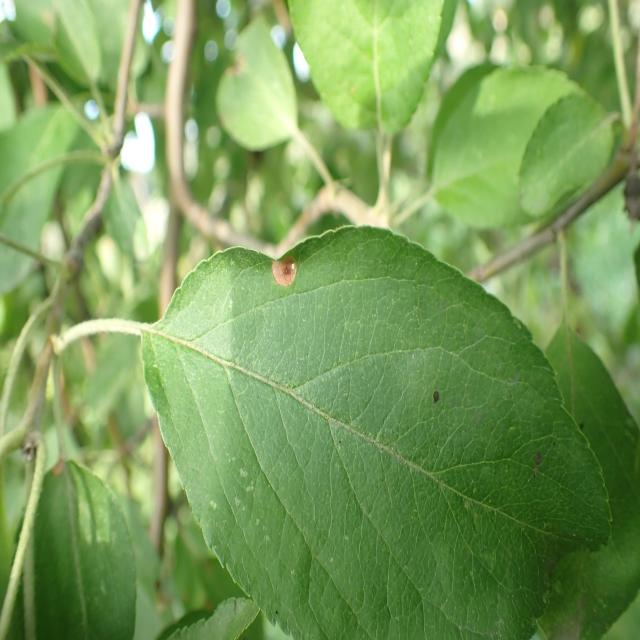Black Rot: (248, 238, 311, 308)
